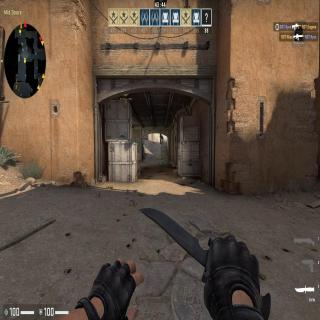CT-Body: (159, 134, 162, 144), (162, 136, 164, 143)
CT-Head: (160, 134, 161, 136), (162, 136, 162, 137)
